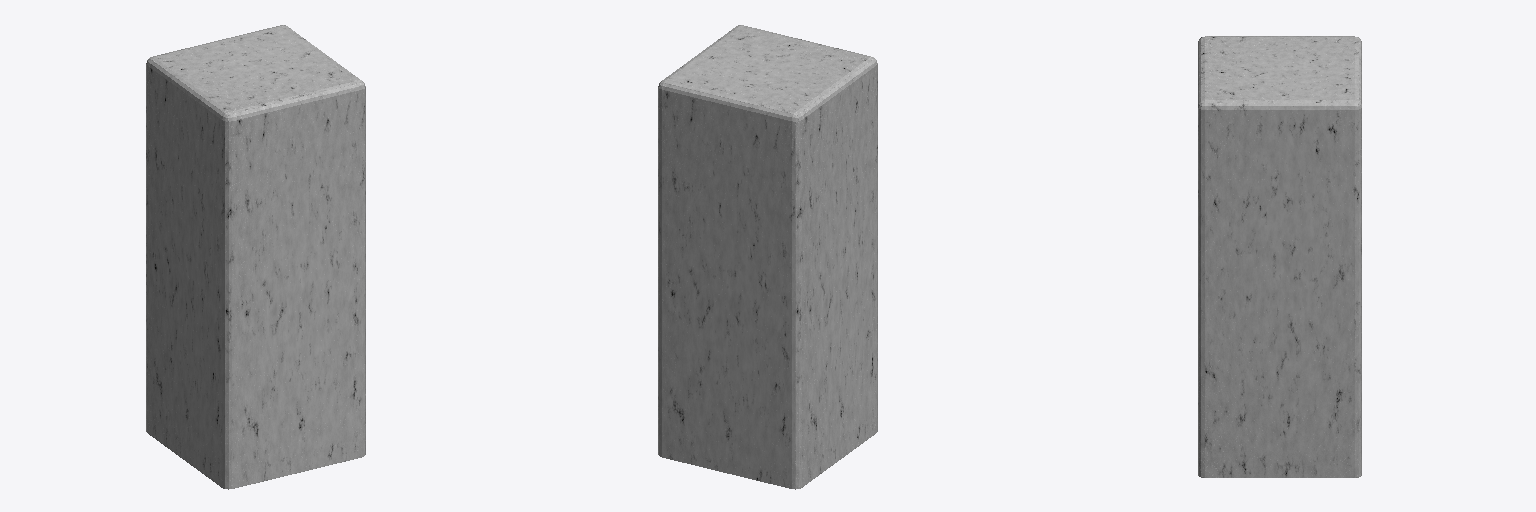
3 views of the same model, side by side, from view 1: azimuth 30°, elevation 25°; view 2: azimuth 150°, elevation 25°; view 3: azimuth 270°, elevation 25° (orthographic).
Parts seen in each view (by area): view 1: 立方体; view 2: 立方体; view 3: 立方体.
Boxes of the visible parts, <box> form: 立方体: <box>146,25,365,489</box>; 立方体: <box>658,25,877,489</box>; 立方体: <box>1198,36,1361,477</box>.
Bounding box in the file's own units: 2 × 5.02 × 2.
1 materials, 1 textured.